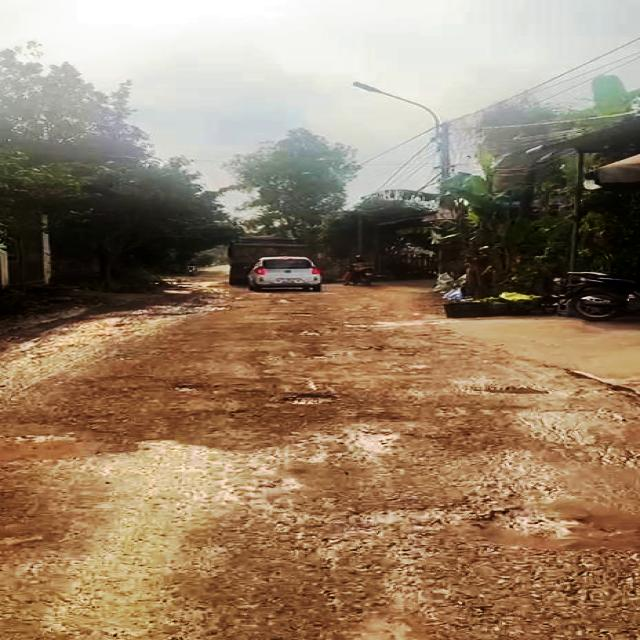pothole: (469, 501, 640, 553), (353, 503, 475, 532), (272, 390, 339, 408), (472, 383, 552, 397)
